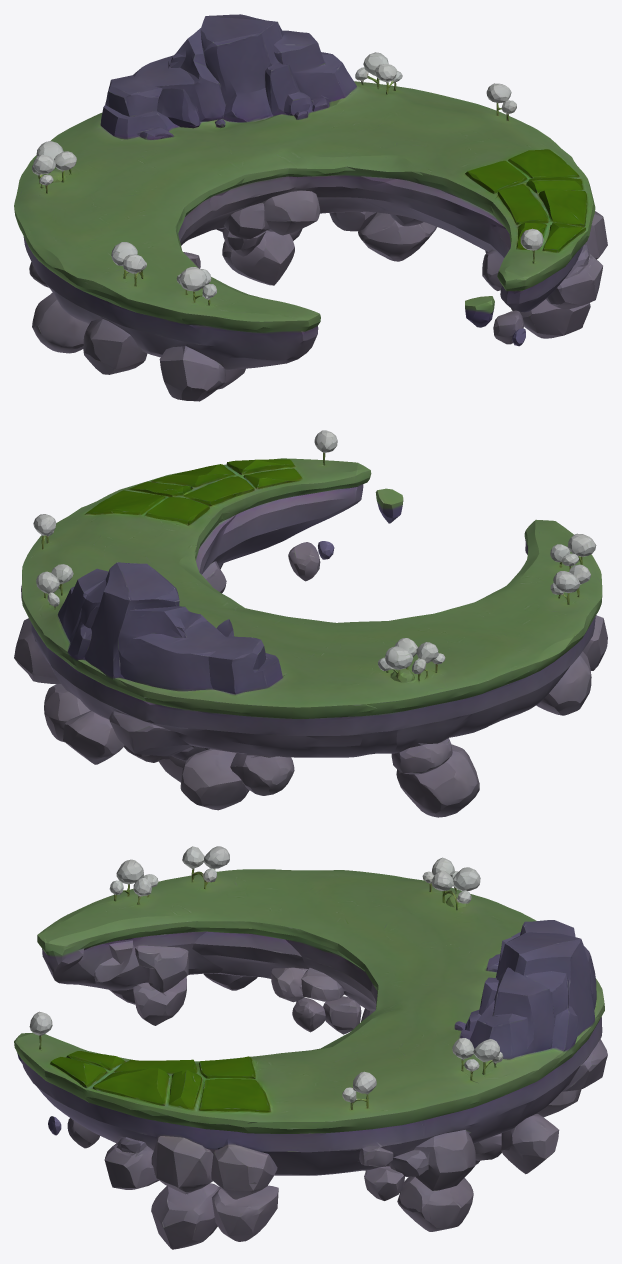
Rendered from stage_03.fbx.
3 renders of one model, top to bottom at view 1: azimuth 30°, elevation 25°; view 2: azimuth 150°, elevation 25°; view 3: azimuth 270°, elevation 25°, orthographic. The views are drawn at different scales.
Visible parts, largest first — view 1: model; view 2: model; view 3: model.
Part boxes in pixels (box(x1,y1,x2,y2)): model: box(14, 14, 607, 401); model: box(14, 430, 607, 817); model: box(14, 846, 607, 1249).
Size of the model in its own units: 190 by 81.3 by 184.
Materials: 1 (1 with a texture image).
